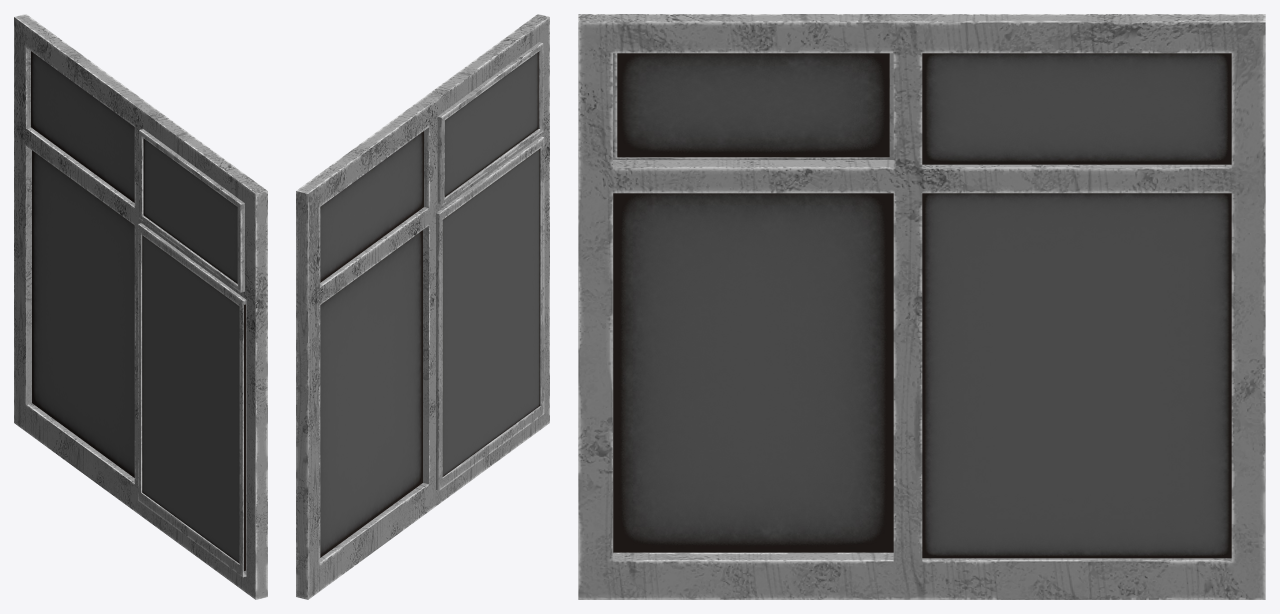
The model's file is wood_window.glb.
3 views of the same model, side by side, from view 1: azimuth 30°, elevation 25°; view 2: azimuth 150°, elevation 25°; view 3: azimuth 270°, elevation 25° (orthographic). The views are drawn at different scales.
Size of the model in its own units: 6.28 by 148 by 160.
2 materials, 2 textured.
